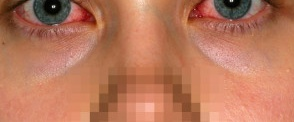SJS-TEN: (190, 26, 294, 122), (0, 34, 92, 122)
